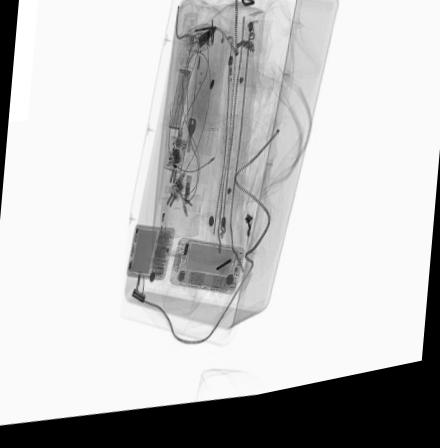Lighter: (156, 201, 171, 259)
